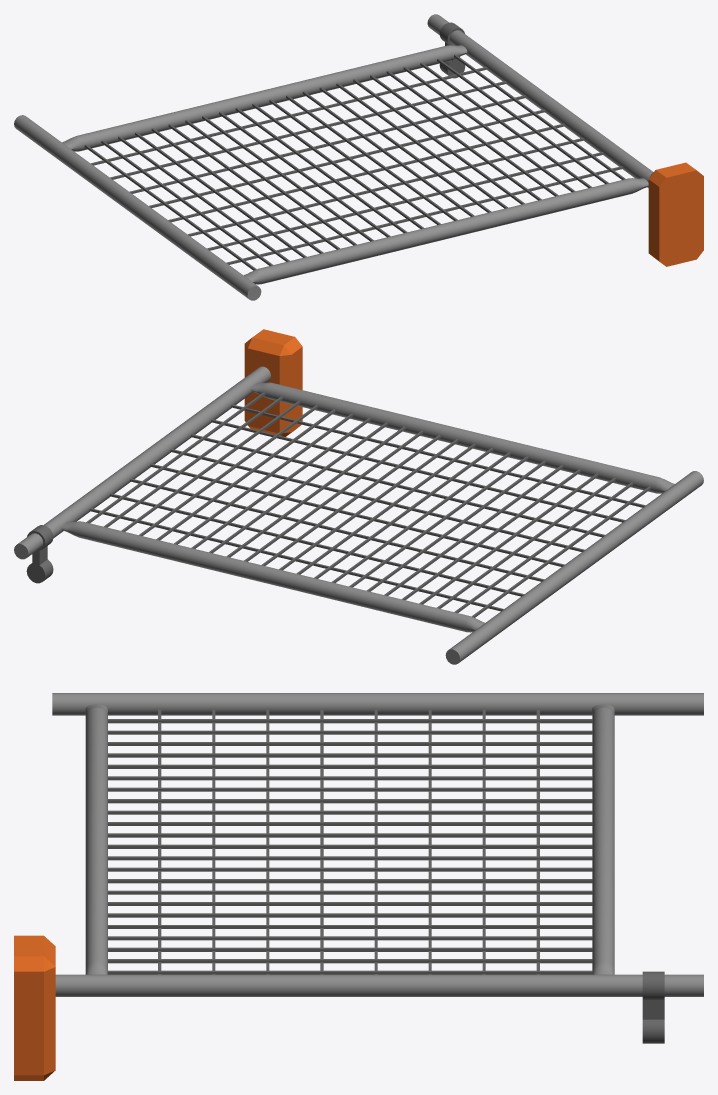
File: ConstructionFence.fbx
3 views of the same model, one above another, from view 1: azimuth 30°, elevation 25°; view 2: azimuth 150°, elevation 25°; view 3: azimuth 270°, elevation 25° (orthographic). The views are drawn at different scales.
Parts seen in each view (by area): view 1: Cube; view 2: Cube; view 3: Cube.
Boxes of the visible parts, <box> form: Cube: <box>14,14,703,300</box>; Cube: <box>14,329,703,664</box>; Cube: <box>14,693,703,1080</box>.
Size of the model in its own units: 5.2 by 1 by 5.03.
